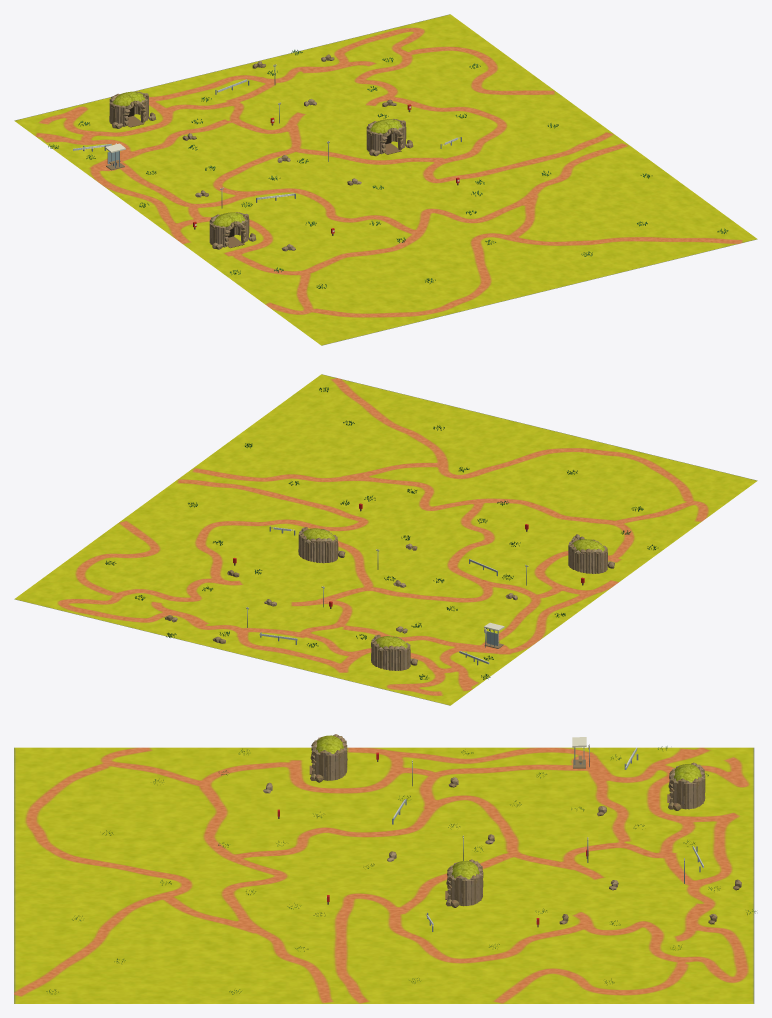
Rendered from terrain-props.glb.
3 views of the same model, one above another, from view 1: azimuth 30°, elevation 25°; view 2: azimuth 150°, elevation 25°; view 3: azimuth 270°, elevation 25° (orthographic). The views are drawn at different scales.
Parts seen in each view (by area): view 1: hm02_ground_support, hm02_caves_batched, hm02_fixed_props_batched; view 2: hm02_ground_support, hm02_caves_batched, hm02_fixed_props_batched; view 3: hm02_ground_support, hm02_caves_batched, hm02_fixed_props_batched.
Part boxes in pixels (x1,y1,x2,y2): hm02_ground_support: (14, 14, 757, 345); hm02_caves_batched: (109, 91, 413, 249); hm02_fixed_props_batched: (48, 49, 728, 288); hm02_ground_support: (14, 374, 757, 705); hm02_caves_batched: (298, 527, 614, 670); hm02_fixed_props_batched: (105, 387, 658, 679); hm02_ground_support: (14, 747, 754, 1003); hm02_caves_batched: (309, 734, 705, 907); hm02_fixed_props_batched: (46, 737, 756, 994).
Bounding box in the file's own units: 64.3 × 3.77 × 78.5.
Materials: 3 (2 with a texture image).
